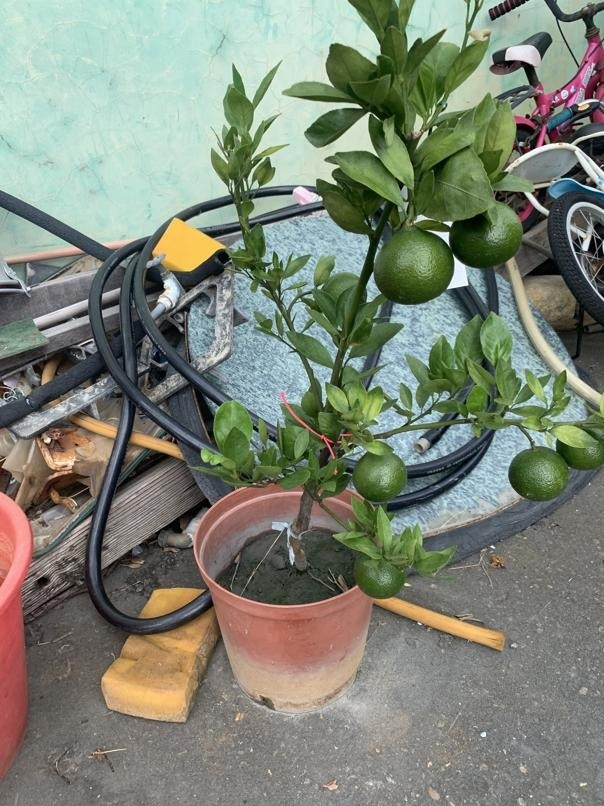Tangerine: (370, 222, 454, 305), (446, 198, 524, 269), (508, 443, 570, 501), (353, 445, 410, 504), (356, 550, 404, 599)
